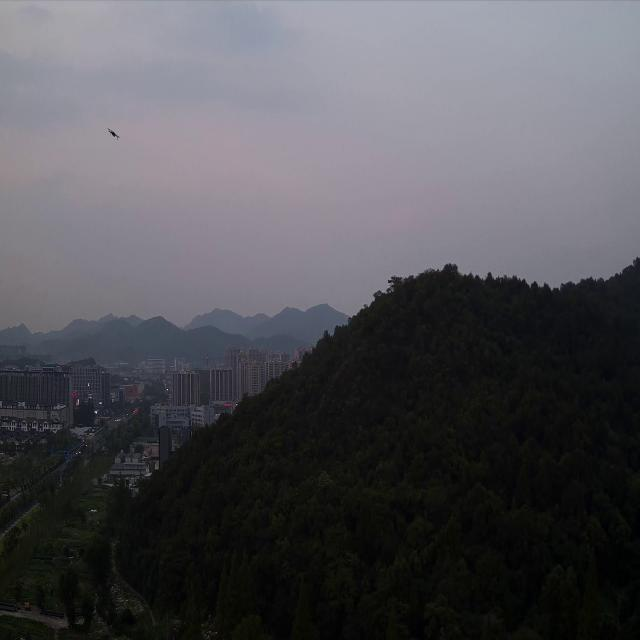UAV: (107, 127, 120, 140)
